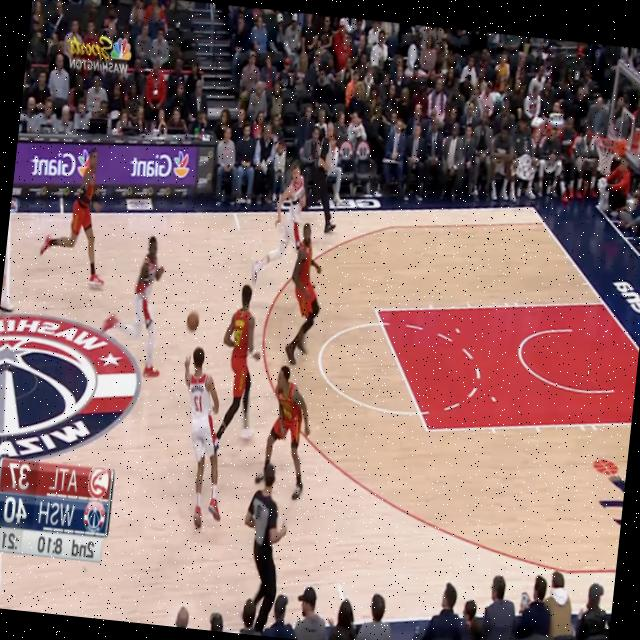no foul: (18, 138, 196, 370), (172, 271, 273, 538), (239, 156, 354, 372)
